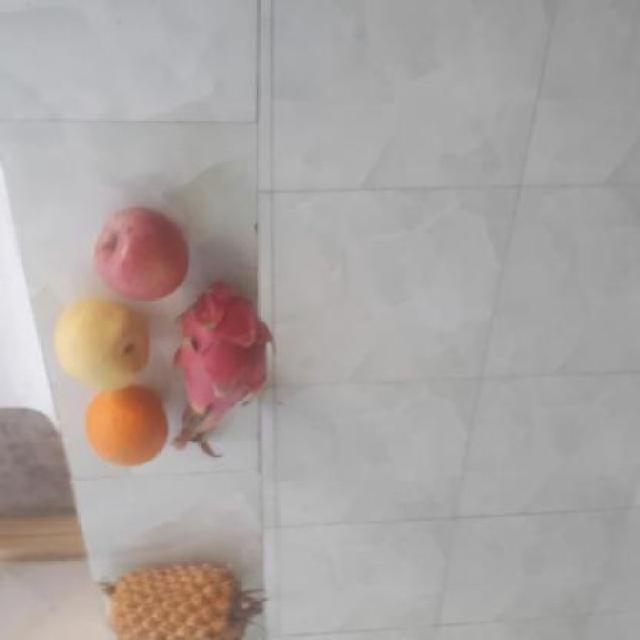apple: (89, 206, 189, 303)
dragon fruit: (156, 284, 276, 428)
oren: (82, 388, 167, 468)
pear: (53, 300, 156, 388)
pineapple: (101, 558, 247, 639)
